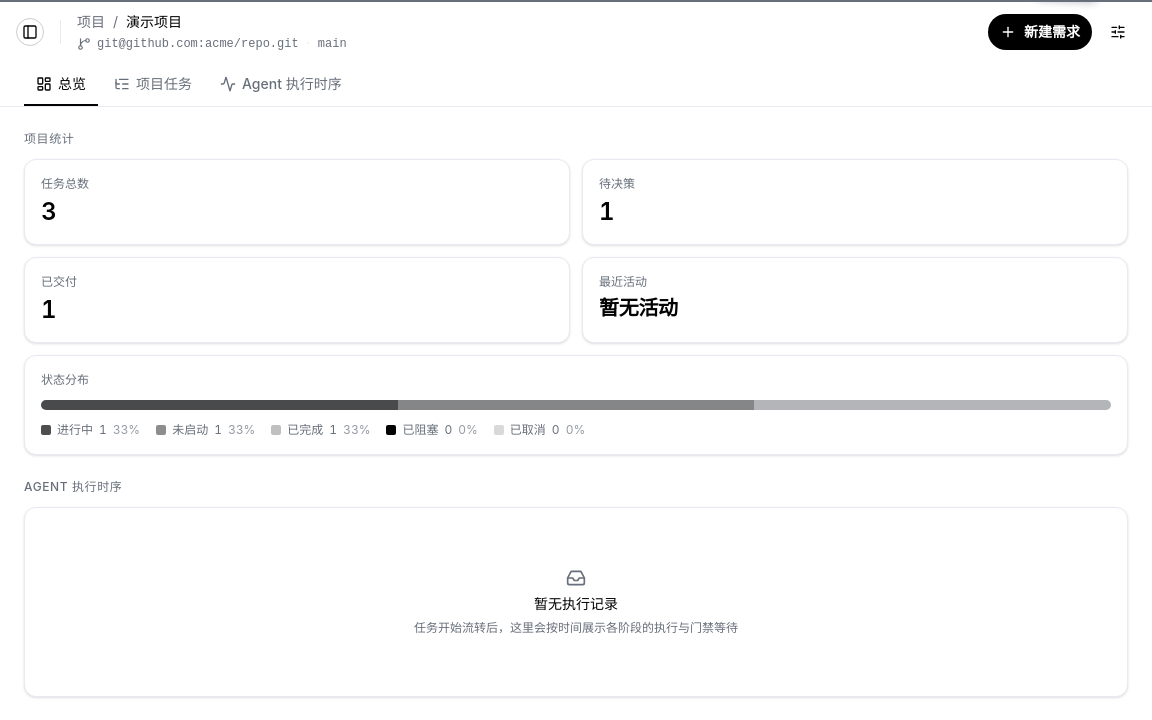
Test: 项目详情 Agent 执行时序 tab（INFERA-259：原独立路由迁入项目域） › AC1-2: 总览页点击「Agent 执行时序」页签进入该页（tab 可达另一半）
Expected: the heading "项目统计" is shown, [24, 131, 74, 146]
页签以「项目导航」作用域定位（总览页同名 section 标题非链接，不算重名）
Click the link "Agent 执行时序".
click(281, 84)  # box [220, 75, 342, 92]
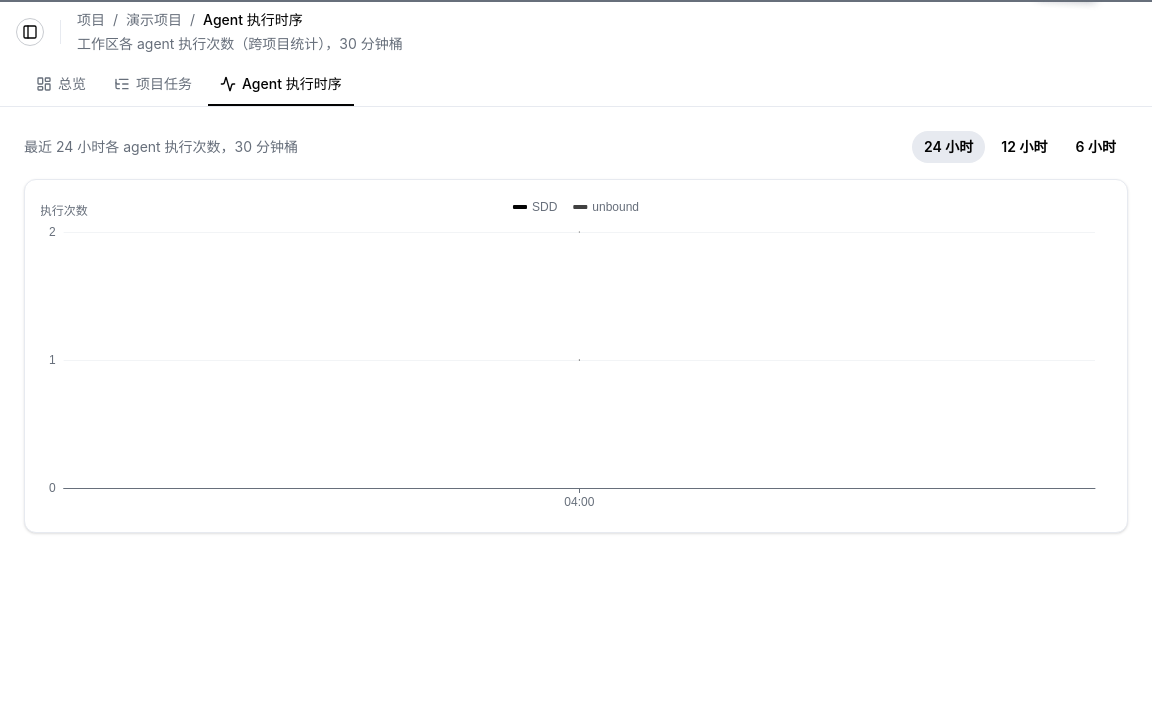
Expected: the button "12 小时" is shown, [989, 131, 1060, 163]
